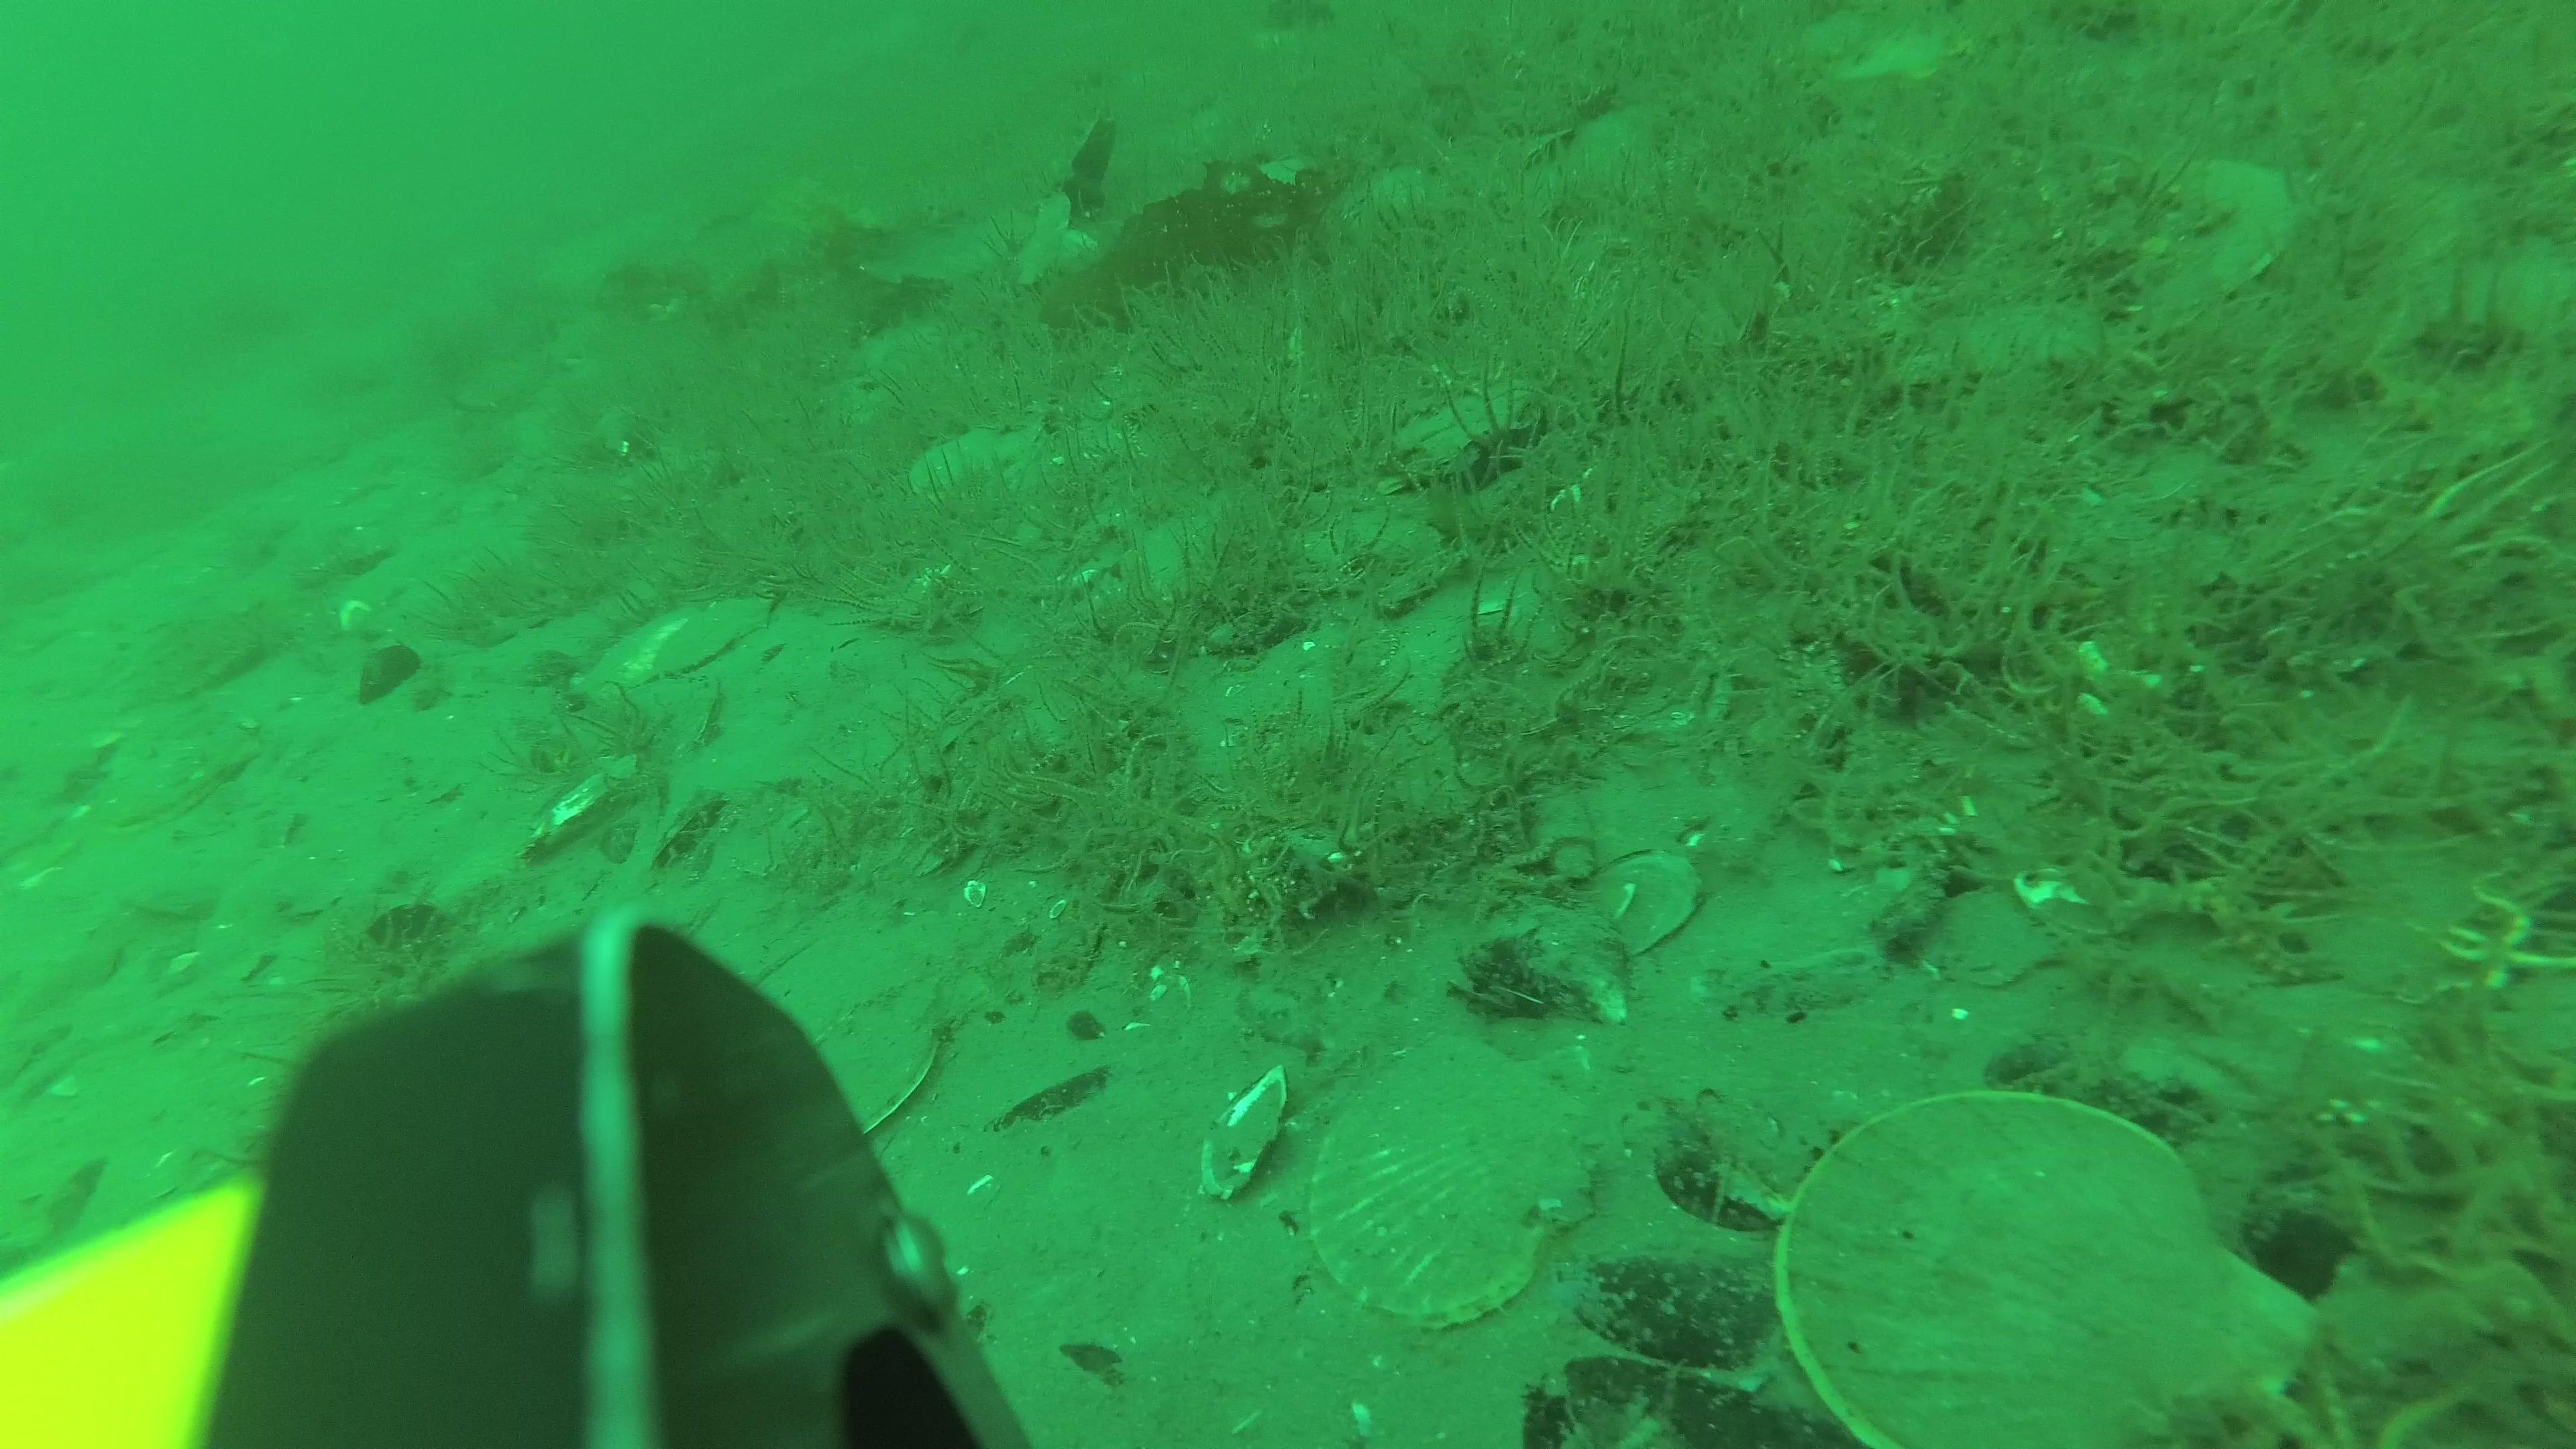scallop: (1780, 1086, 2316, 1449), (1309, 1040, 1606, 1332), (740, 911, 1000, 1152), (2121, 165, 2312, 308), (579, 589, 777, 697), (108, 718, 267, 835), (913, 433, 1039, 510)
